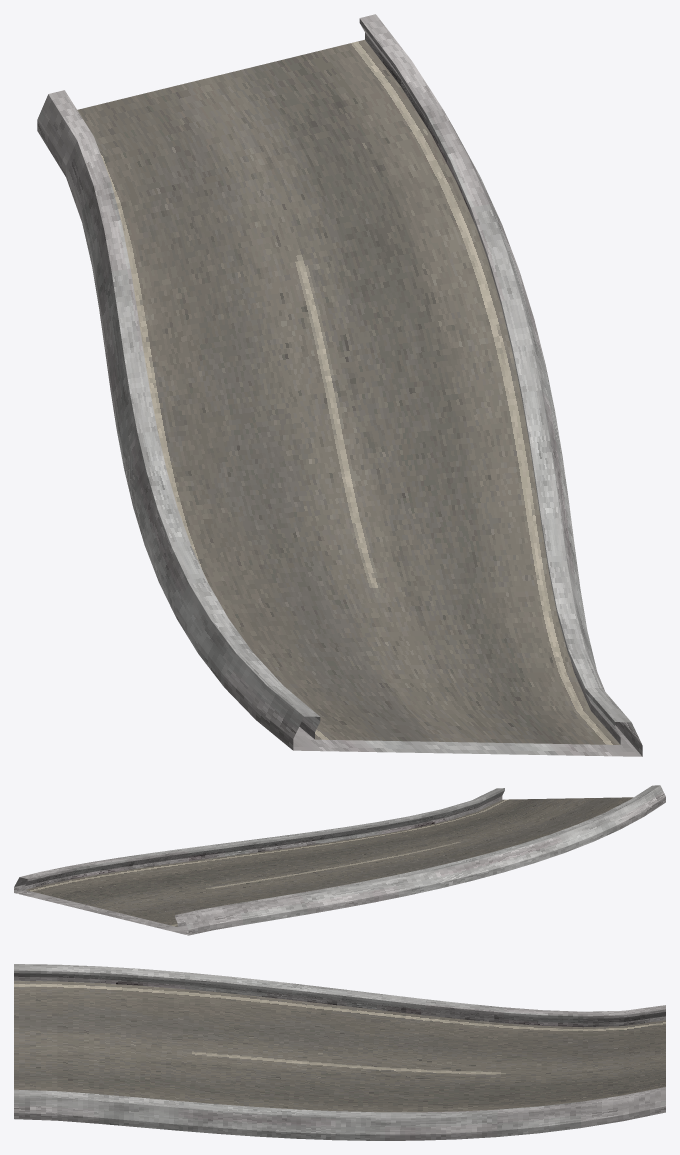
File: road-Chicane-HalfBankedRight-BiSlopeUp-Up2-Right1-Size3.glb
3 views of the same model, one above another, from view 1: azimuth 30°, elevation 25°; view 2: azimuth 150°, elevation 25°; view 3: azimuth 270°, elevation 25° (orthographic). The views are drawn at different scales.
Visible parts, largest first — view 1: road-Chicane-HalfBankedRight-BiSlopeUp-Up2-Right1-Size3; view 2: road-Chicane-HalfBankedRight-BiSlopeUp-Up2-Right1-Size3; view 3: road-Chicane-HalfBankedRight-BiSlopeUp-Up2-Right1-Size3.
Part boxes in pixels (x1,y1,x2,y2): road-Chicane-HalfBankedRight-BiSlopeUp-Up2-Right1-Size3: [37, 14, 642, 756]; road-Chicane-HalfBankedRight-BiSlopeUp-Up2-Right1-Size3: [14, 785, 665, 935]; road-Chicane-HalfBankedRight-BiSlopeUp-Up2-Right1-Size3: [14, 964, 665, 1140].
Size of the model in its own units: 2 by 0.5937 by 3.
Materials: 2 (2 with a texture image).
